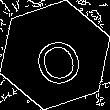O_N: (25, 24, 85, 86)
